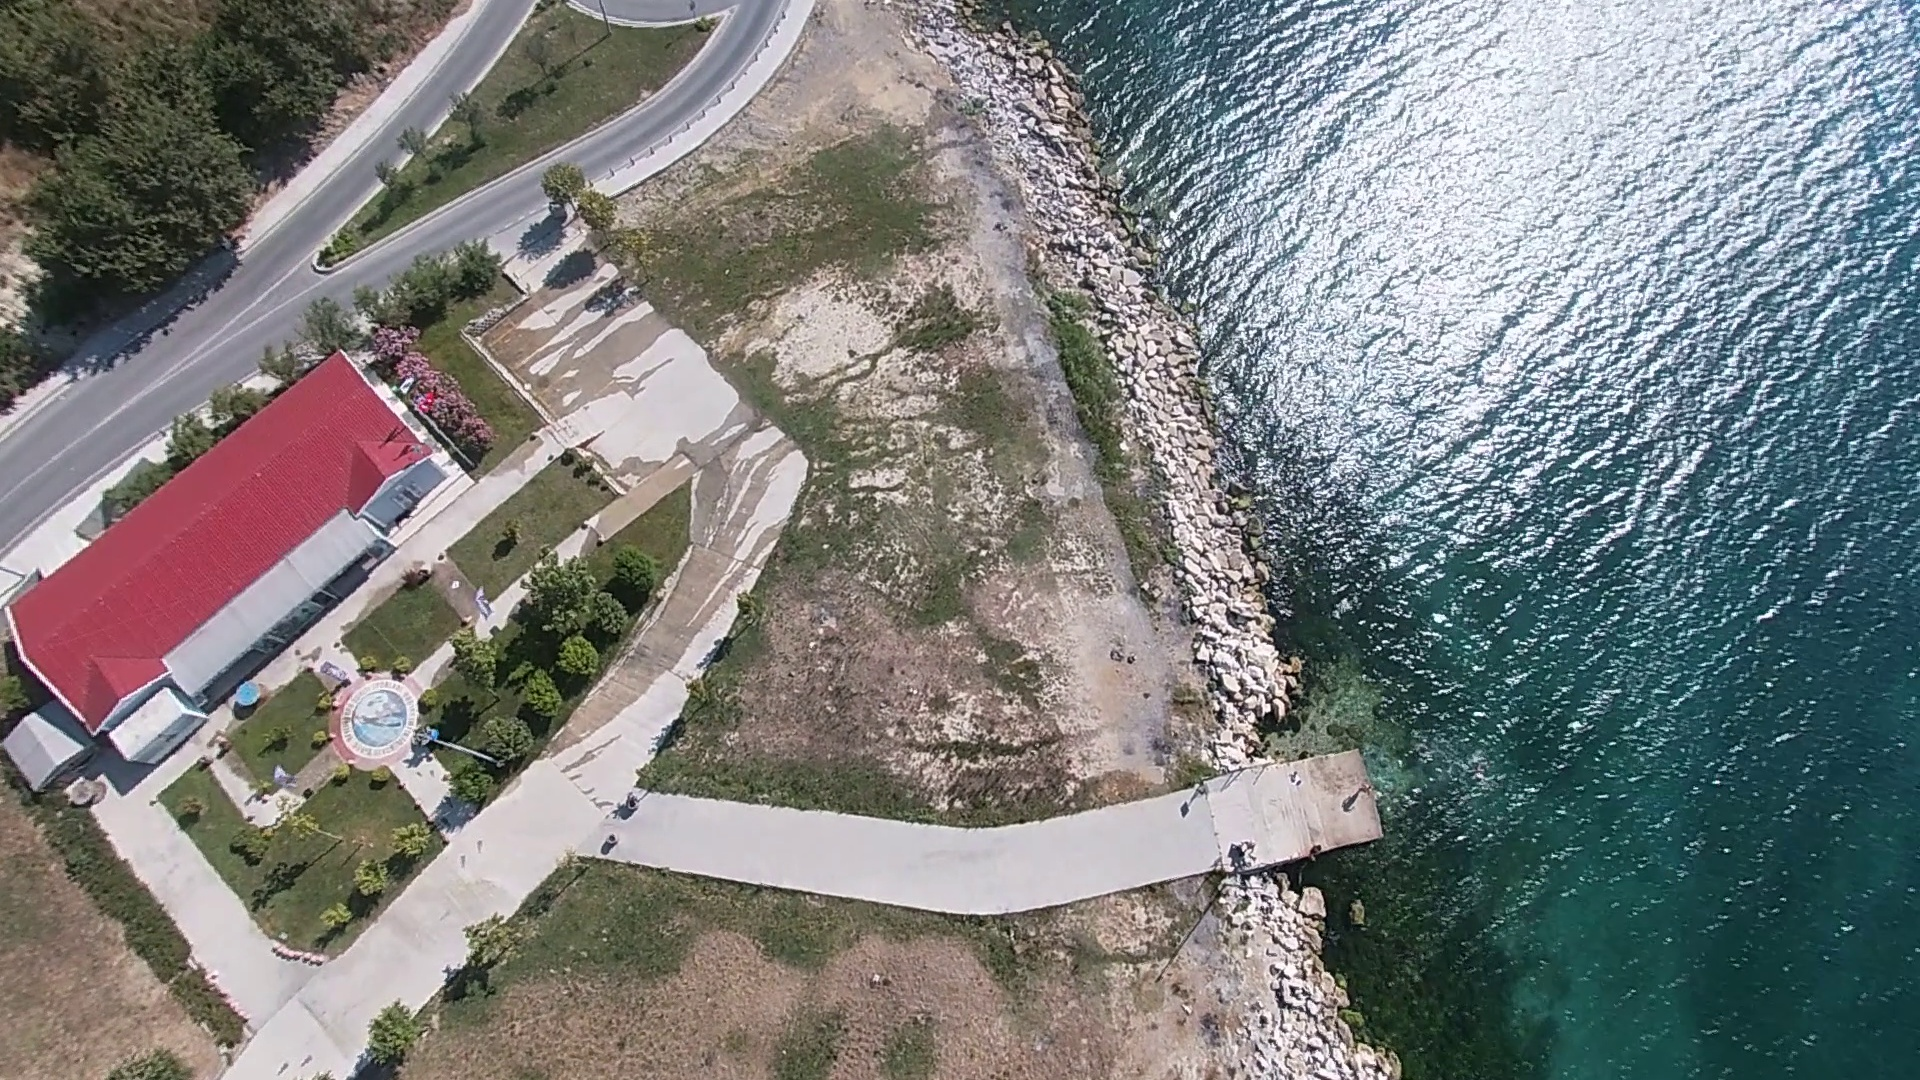insan: (1345, 777, 1395, 813)
